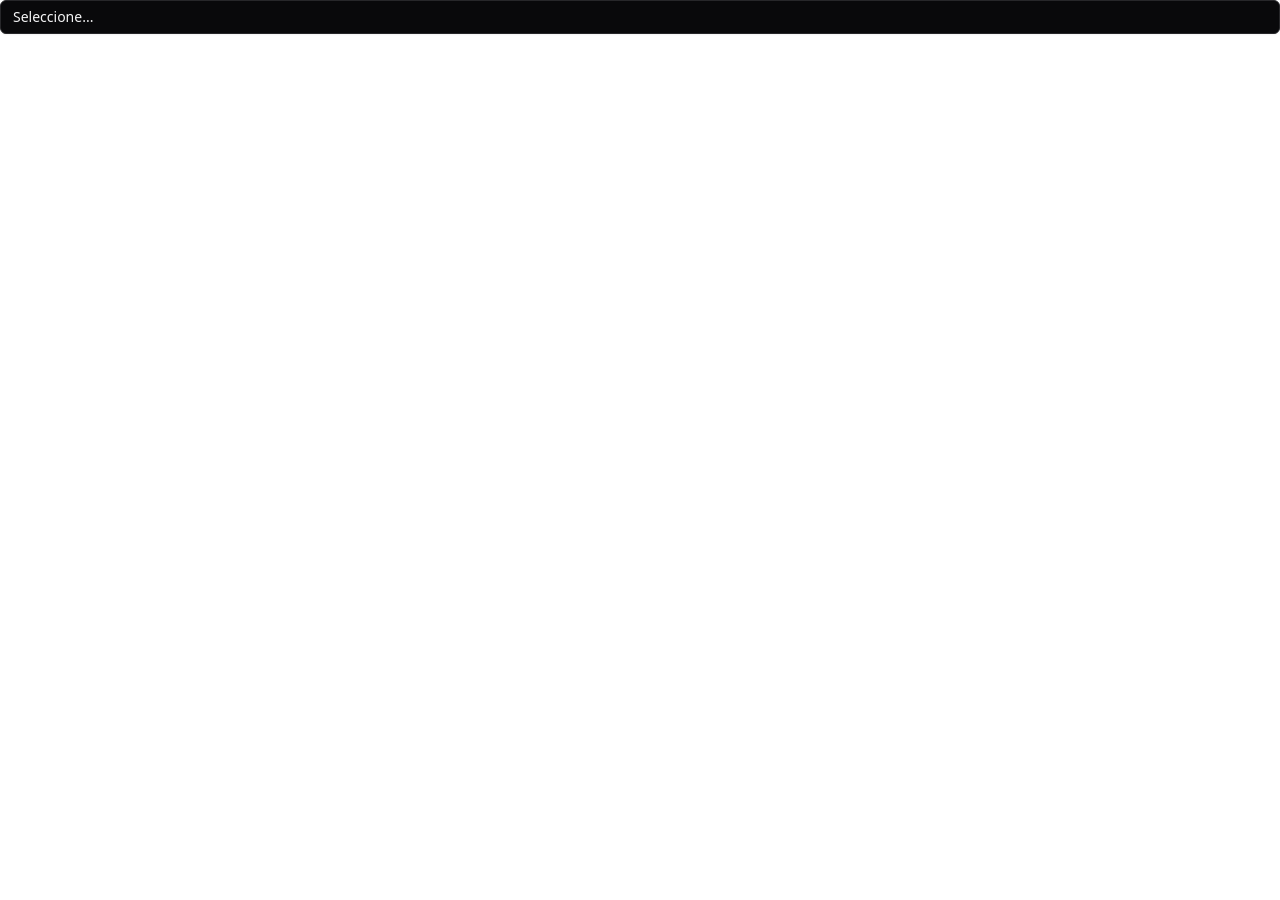
SearchableCombobox › calls onChange once with the numeric id when clicking an option and closes the popup
What coordinates should you click on to do the following:
click the button "Seleccione..."
I would click on:
 (53, 16)
Its box is x1=13 y1=7 x2=1267 y2=27.
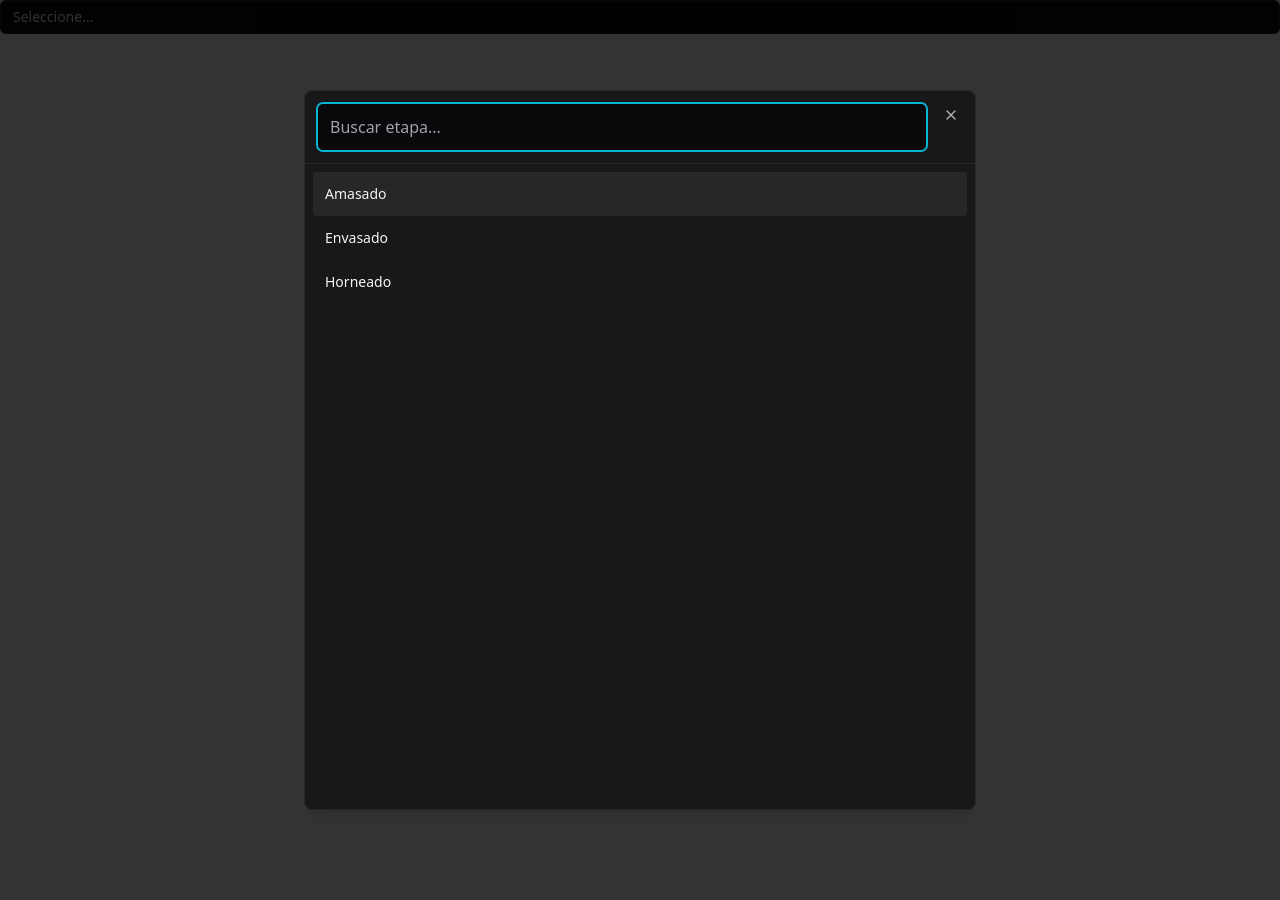
What coordinates should you click on to do the following:
click the option "Envasado"
I would click on:
 (356, 238)
Its box is x1=325 y1=228 x2=388 y2=247.
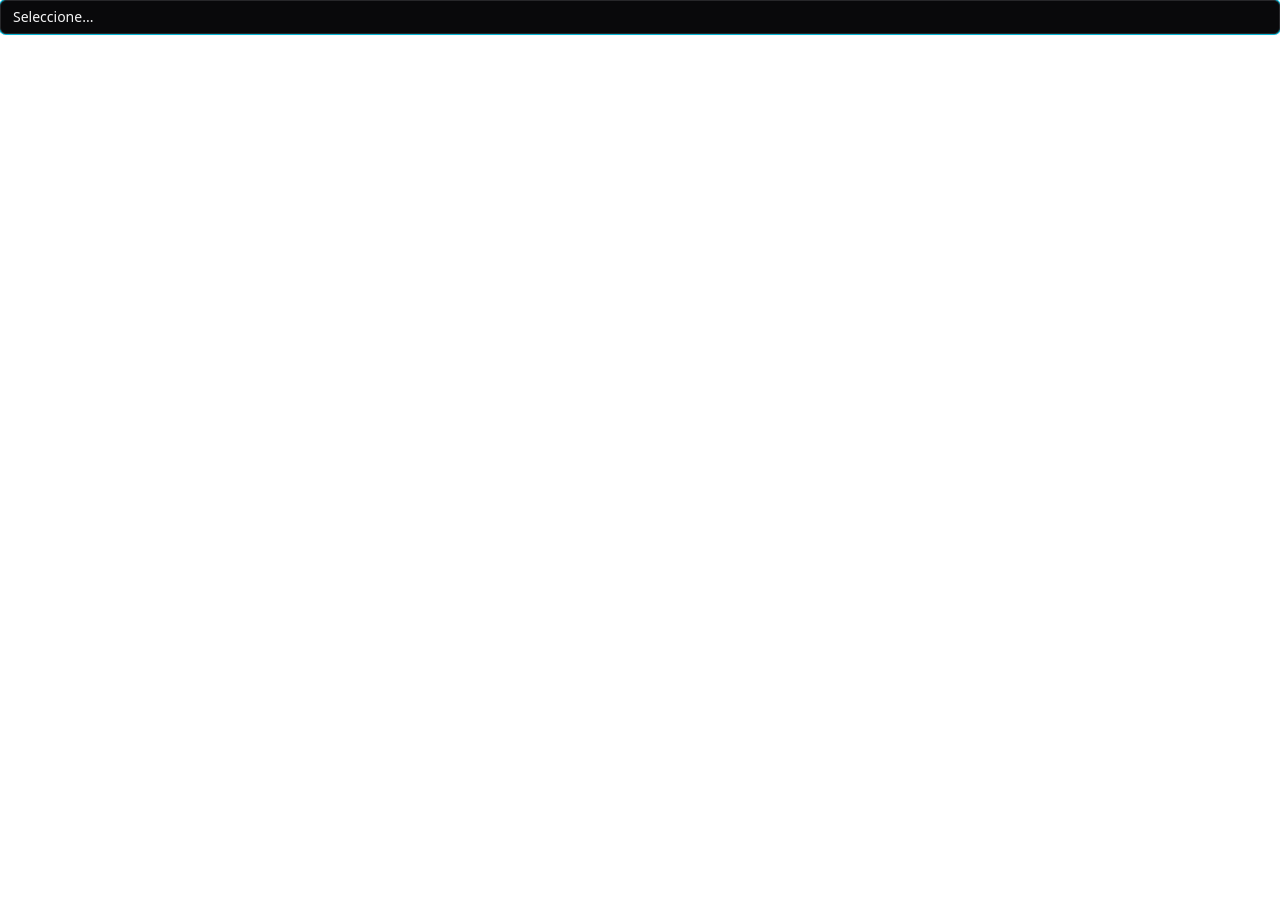
Check: the dialog is gone
Check: the option is gone
